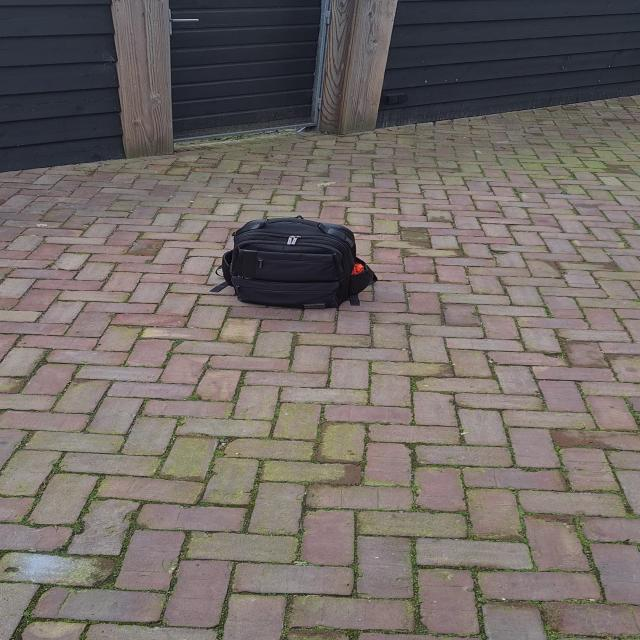backpack: (215, 216, 375, 315)
